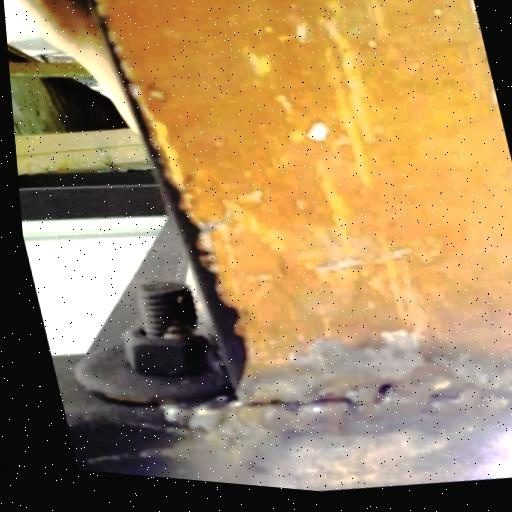crack: (230, 338, 512, 478)
